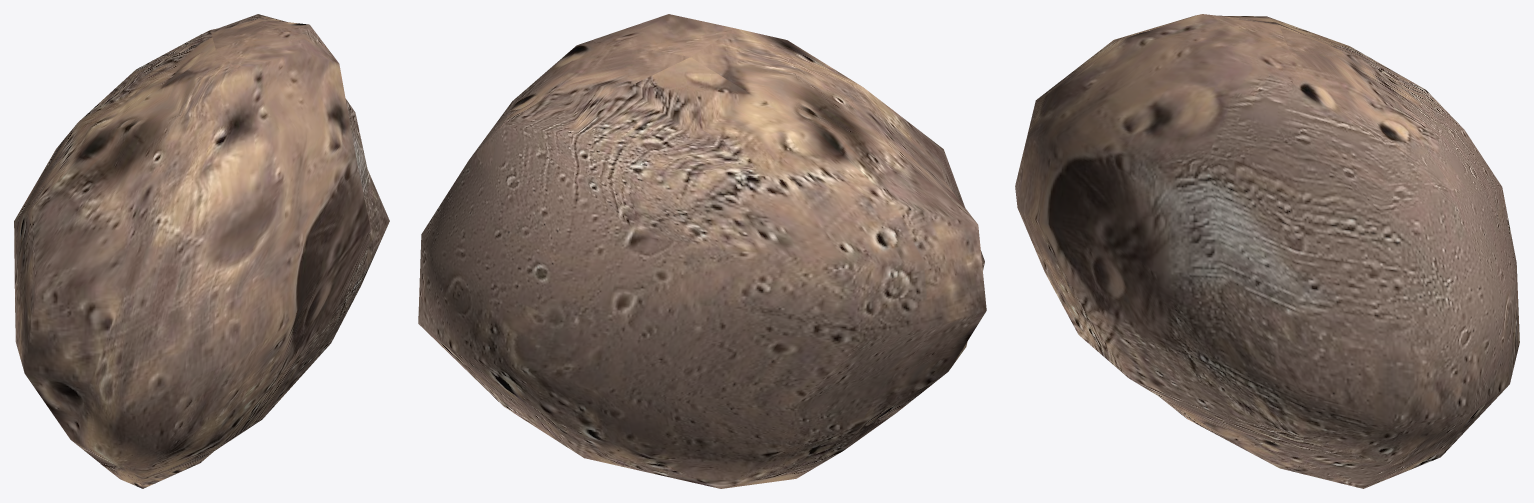
Rendered from AsteroidSmall-1.FBX.
3 renders of one model, left to right at view 1: azimuth 30°, elevation 25°; view 2: azimuth 150°, elevation 25°; view 3: azimuth 270°, elevation 25°, orthographic. The views are drawn at different scales.
Visible parts, largest first — view 1: AsteroidSmall; view 2: AsteroidSmall; view 3: AsteroidSmall.
Part boxes in pixels (left/top/right/bottom): AsteroidSmall: left=14, top=14, right=389, bottom=488; AsteroidSmall: left=418, top=14, right=986, bottom=488; AsteroidSmall: left=1015, top=14, right=1519, bottom=488.
Size of the model in its own units: 1.9 by 1.68 by 1.65.
